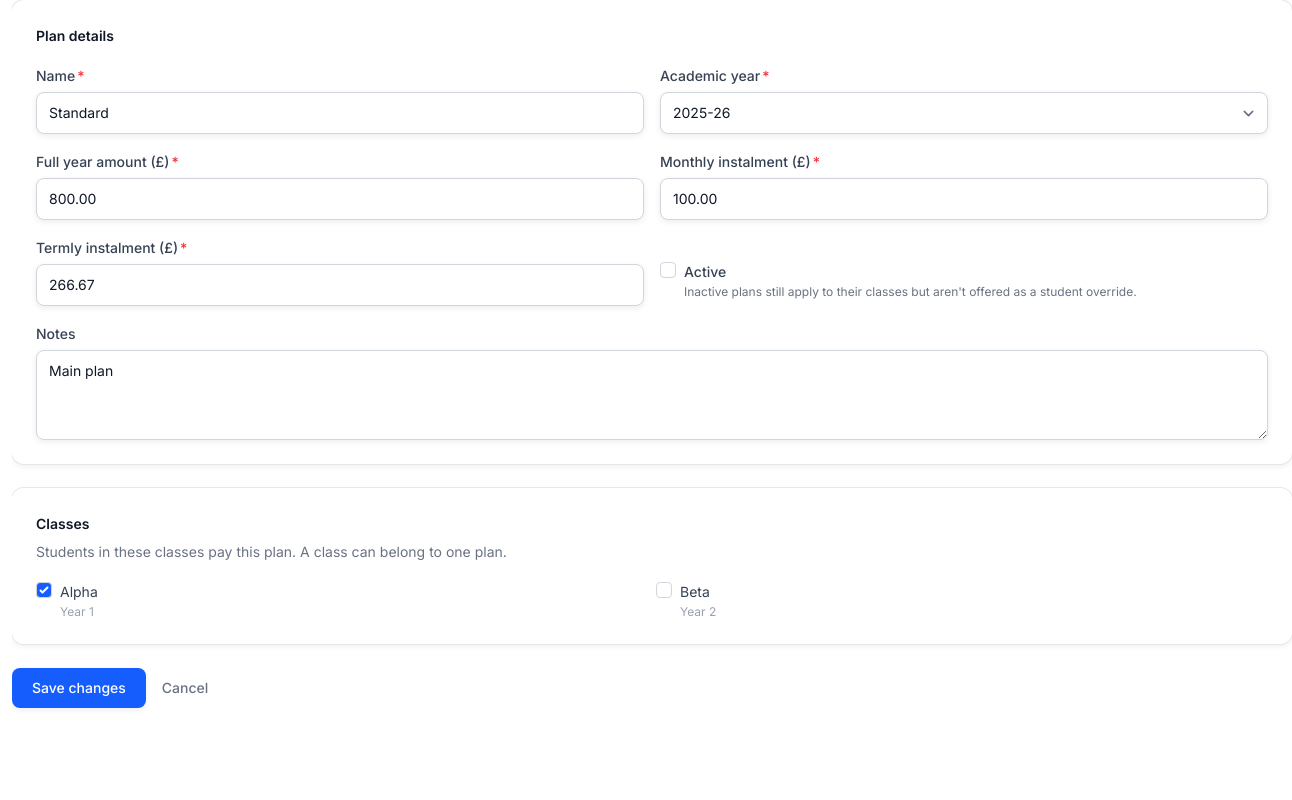
it: FeePlanForm › submits selected classes and shows an action error
This screenshot has width=1292, height=800.
Click the checkbox labelled "Beta Year 2". click: [664, 590]
box: [656, 582, 672, 598]
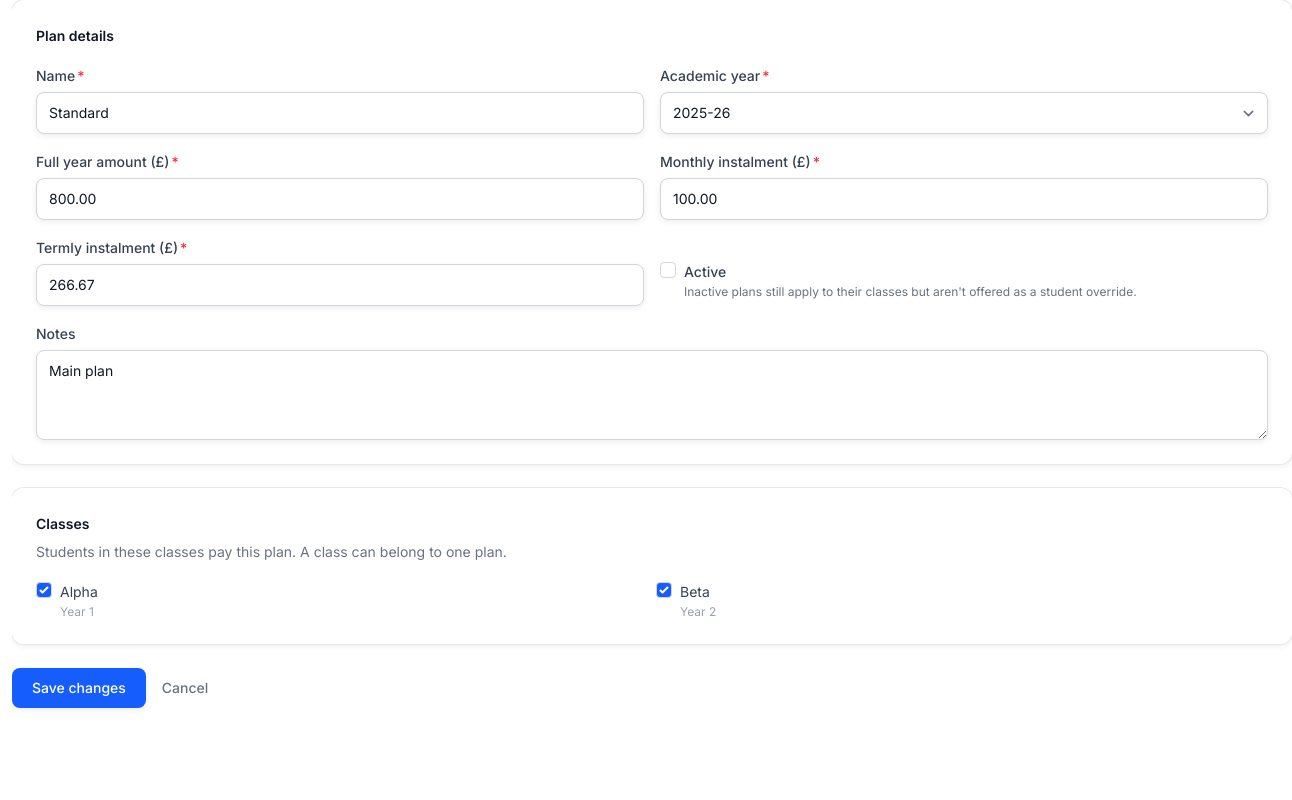
Click the button "Save changes". click: [79, 688]
box: [12, 668, 146, 708]
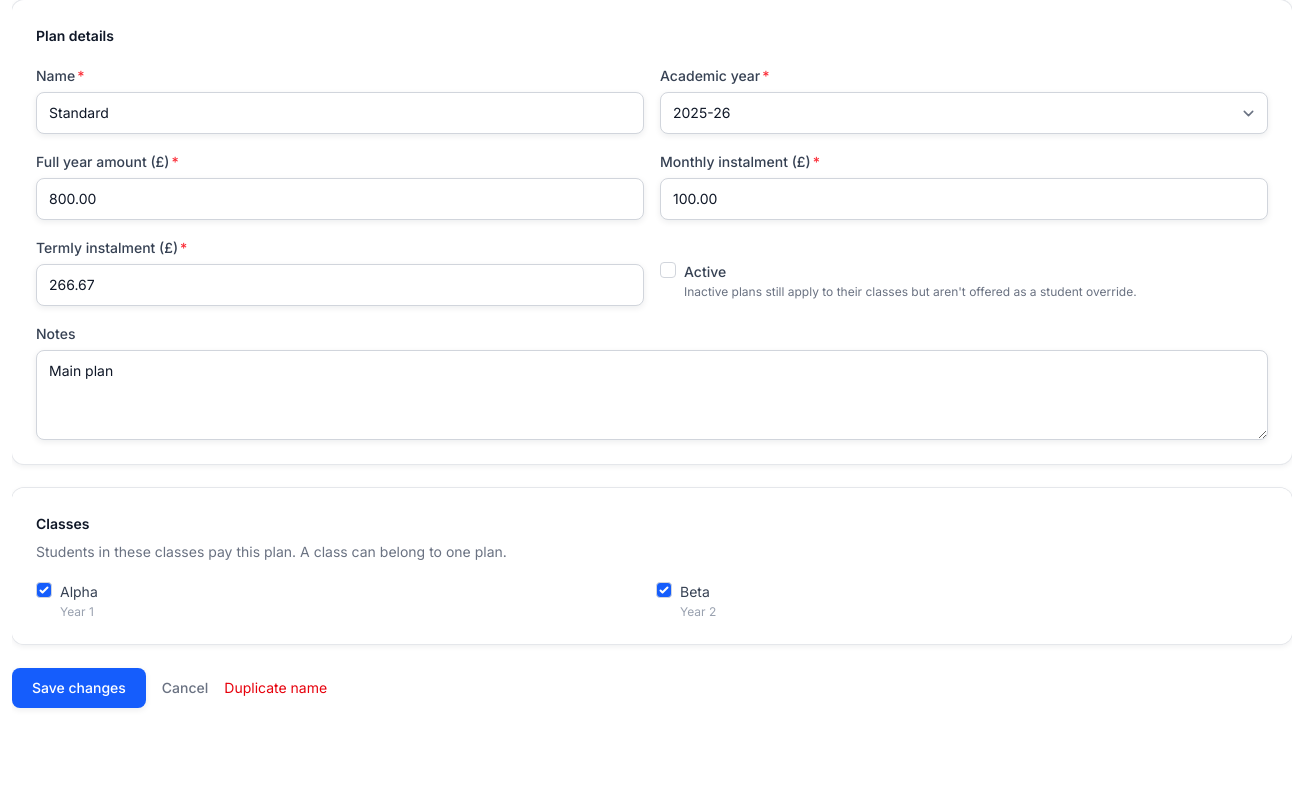
Expected: the message reads "Duplicate name", [224, 679, 327, 696]
